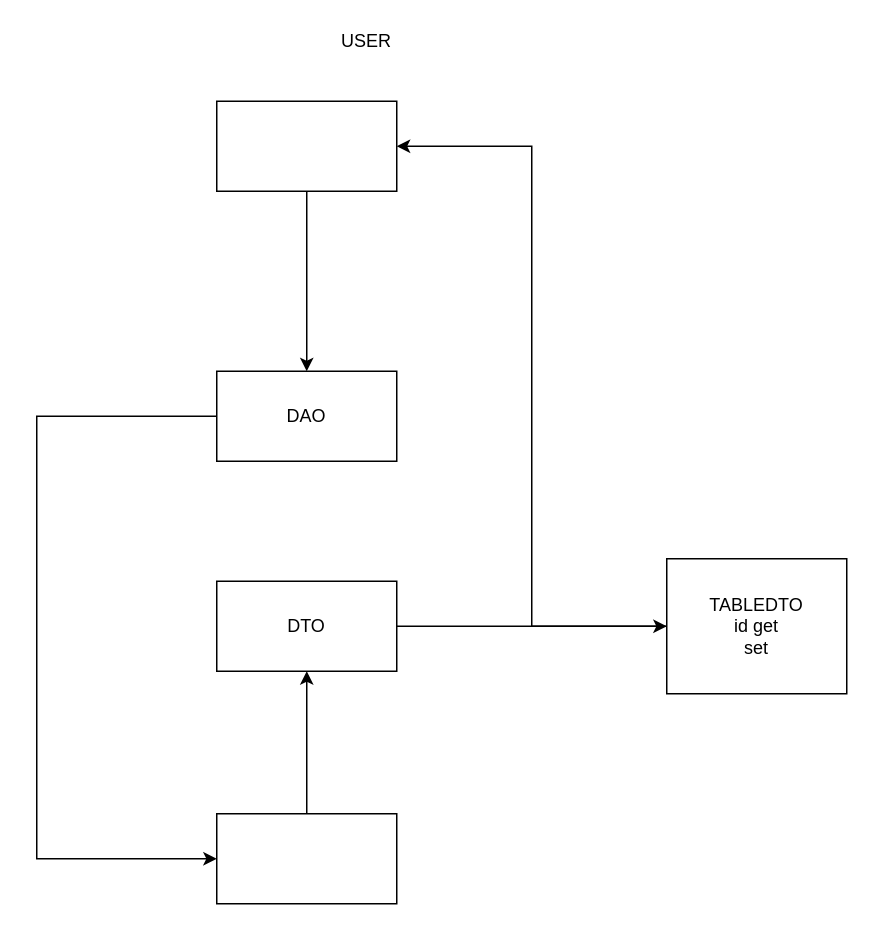
Some shapes in this 873 by 930 pixel diagram are drawn without their labels. Here are the shapes that lost their labels. From the top down, the centre of each, then its label:
At (306,145): "GUI".
At (306,858): "DATABASE".
